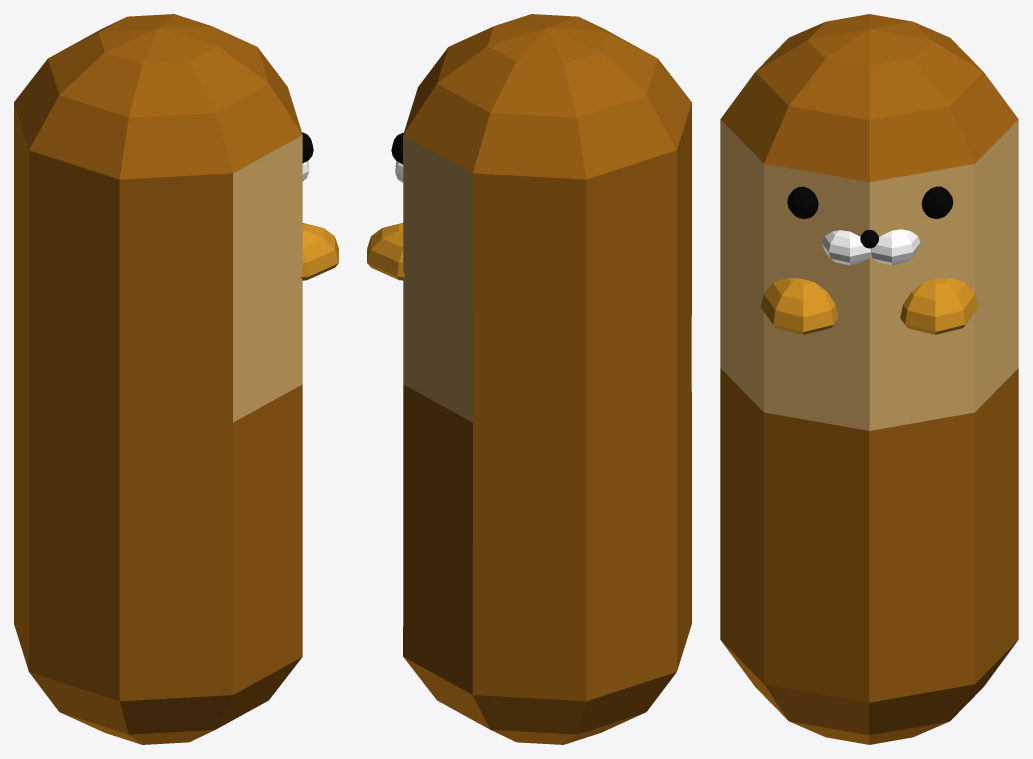
File: mole.fbx
3 renders of one model, left to right at view 1: azimuth 30°, elevation 25°; view 2: azimuth 150°, elevation 25°; view 3: azimuth 270°, elevation 25°, orthographic.
Parts seen in each view (by area): view 1: mole; view 2: mole; view 3: mole.
Boxes of the visible parts, x1,y1,x2,y2 form: mole: (14,14,338,744); mole: (367,14,691,744); mole: (720,14,1018,744).
Bounding box in the file's own units: 198 × 479 × 185.
1 material, 1 textured.
